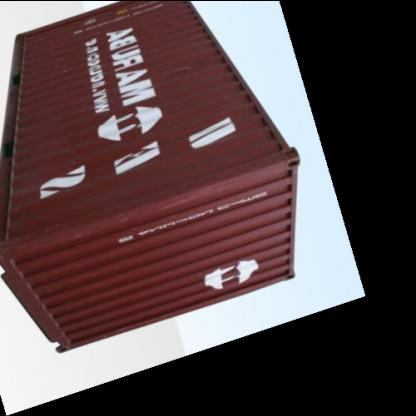Damage: (154, 181, 233, 208), (62, 130, 100, 180), (165, 56, 216, 81), (57, 50, 81, 80)
